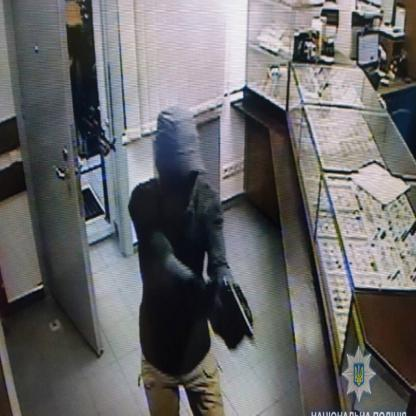pistols: (219, 280, 258, 346)
